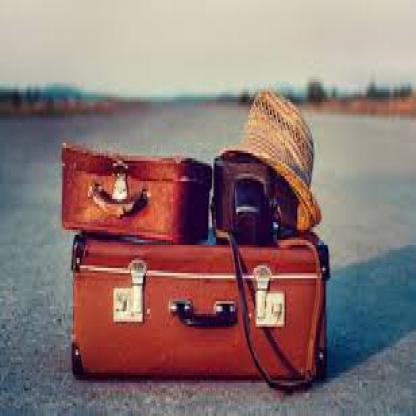maleta: (64, 222, 338, 401), (54, 120, 211, 253)
